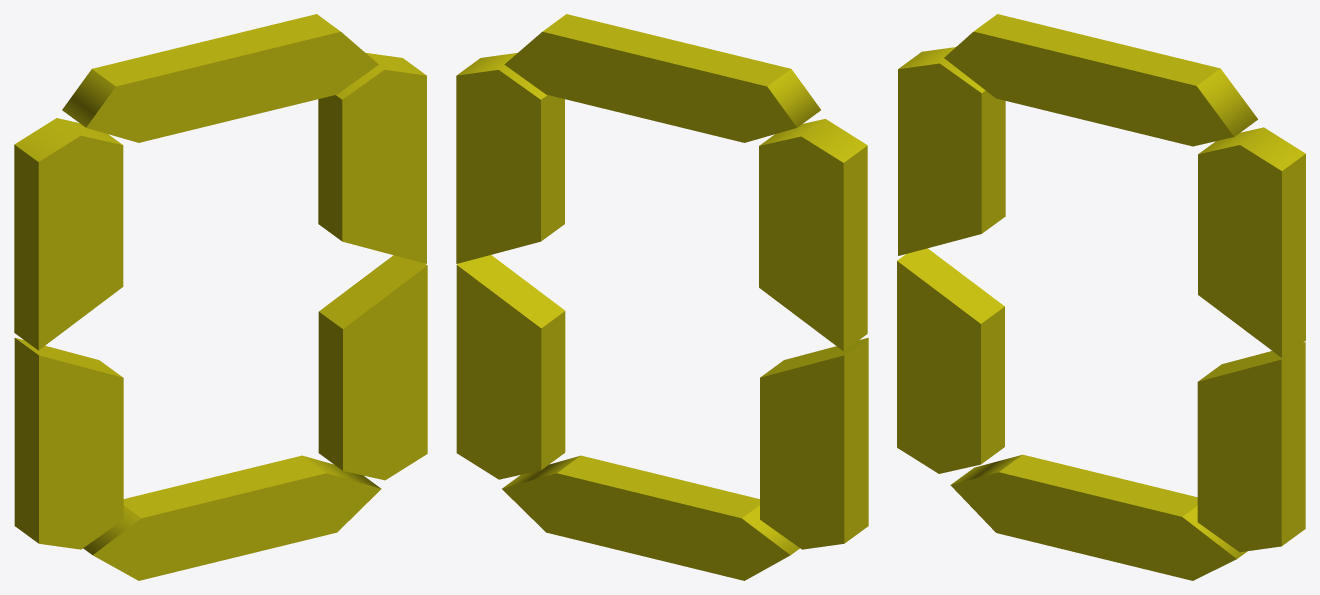
File: zero.FBX
3 renders of one model, left to right at view 1: azimuth 30°, elevation 25°; view 2: azimuth 150°, elevation 25°; view 3: azimuth 330°, elevation 25°, orthographic.
Parts seen in each view (by area): view 1: Box031; view 2: Box031; view 3: Box031.
Boxes of the visible parts, <box> form: Box031: <box>14,14,427,580</box>; Box031: <box>456,14,868,580</box>; Box031: <box>897,14,1305,580</box>.
Bounding box in the file's own units: 73.04 × 89.89 × 8.21.
